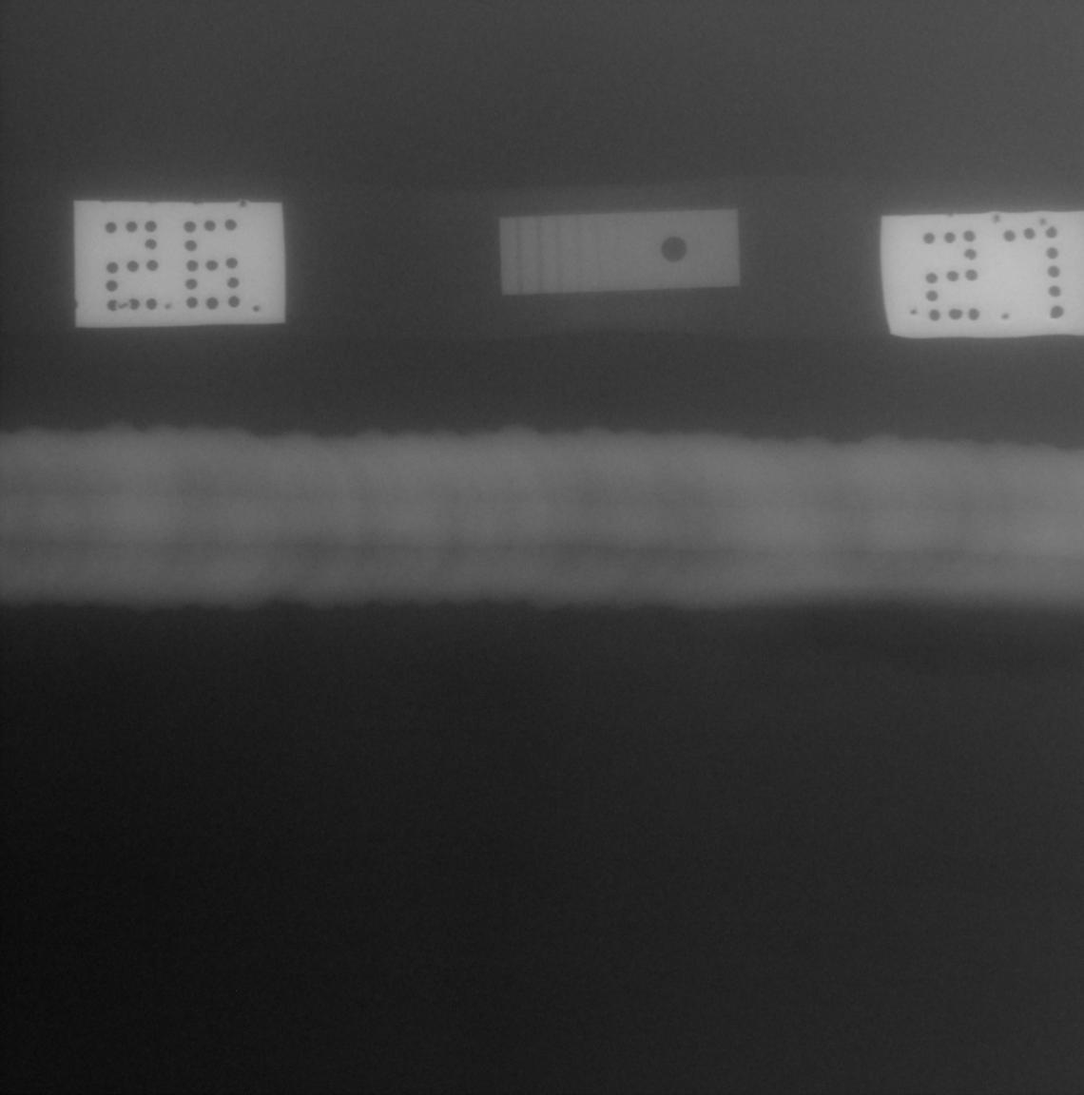Pore/Porosity: (505, 547, 509, 551)
Reference Standard 1: (498, 209, 740, 295)
